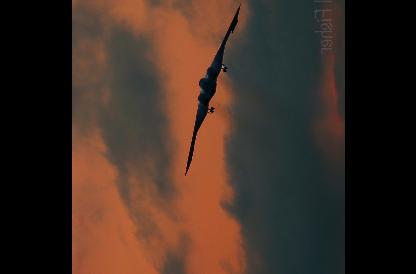B1: (183, 4, 239, 176)
